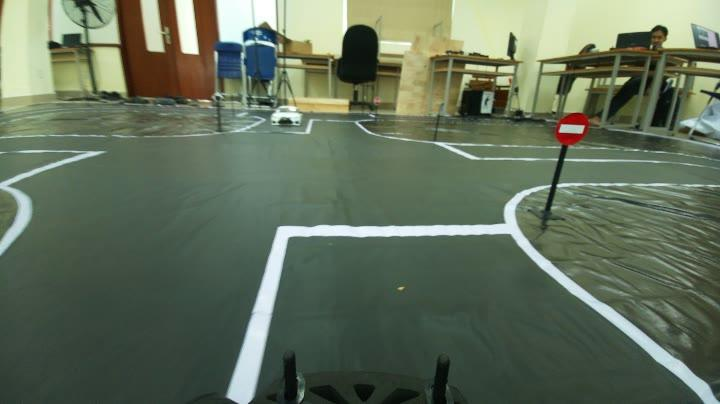car: (266, 99, 305, 130)
no_entry: (545, 107, 594, 153)
